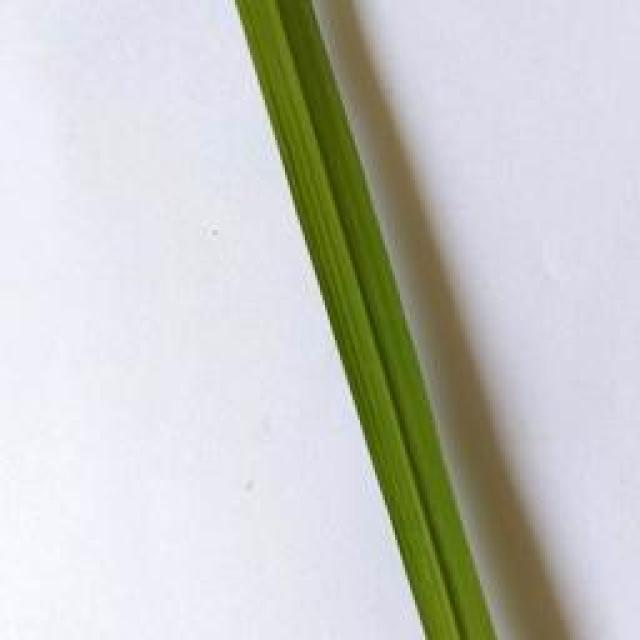Healthy-Plant: (232, 0, 498, 640)
